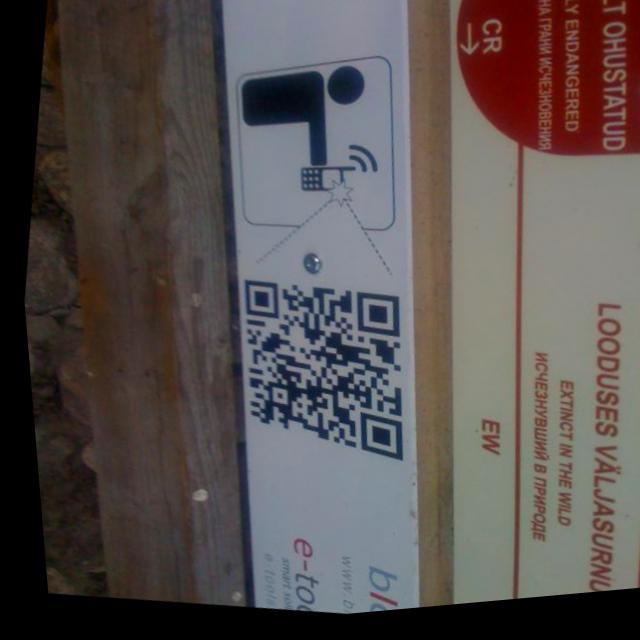qrcode: (213, 273, 421, 481)
